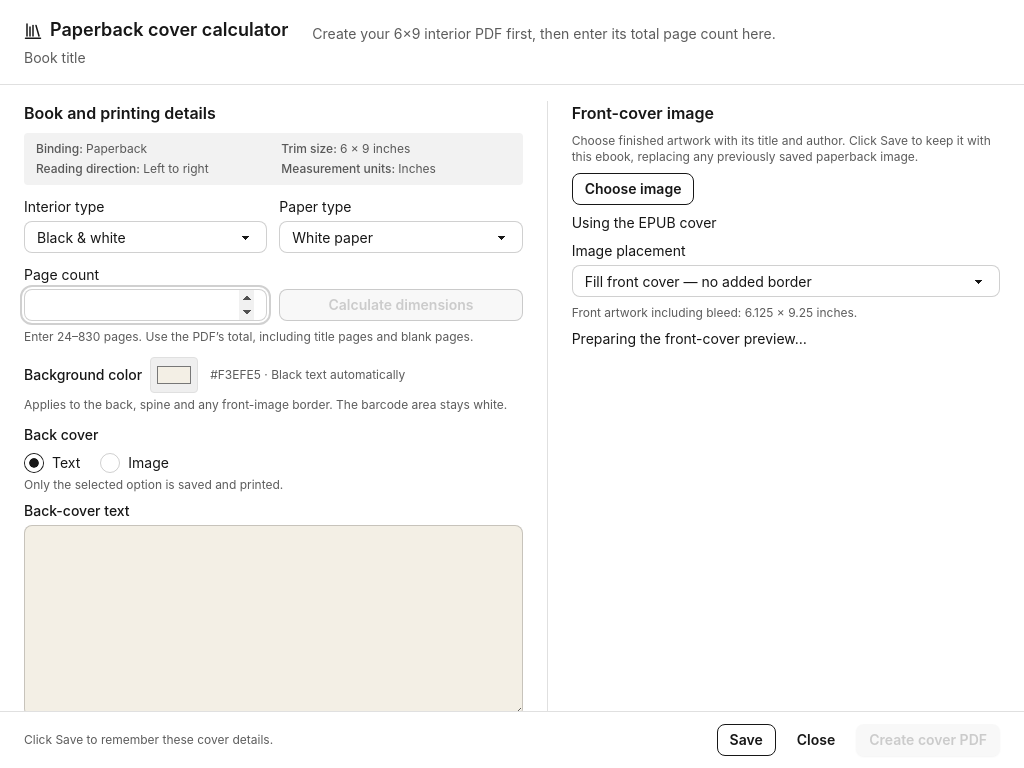
Test: separate paperback-cover calculator › accepts 830 for cover calculation and blocks 871 with the calculator range
This screenshot has width=1024, height=768.
Expected: the element named "Choose front-cover image" is shown, x1=572 y1=173 x2=694 y2=205
Select "Standard color" in the dropdown labelled "Interior type" at (146, 237), box x1=24 y1=221 x2=267 y2=253
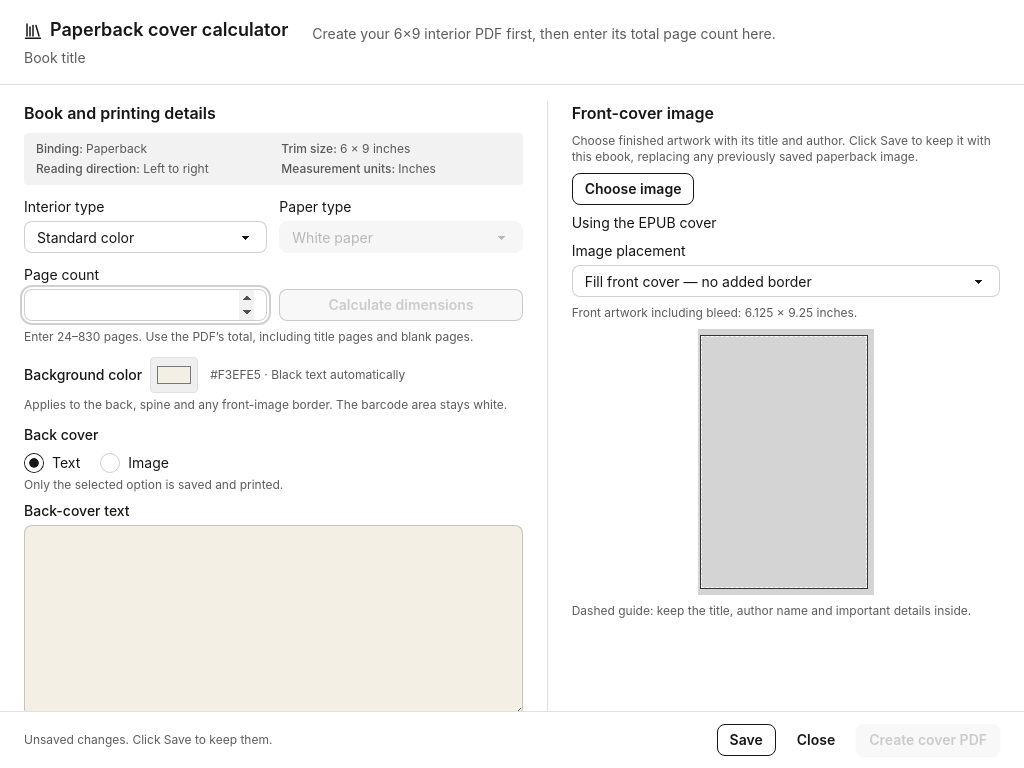
Type "830" into the number field labelled "Page count" at (146, 305), box x1=24 y1=289 x2=267 y2=321
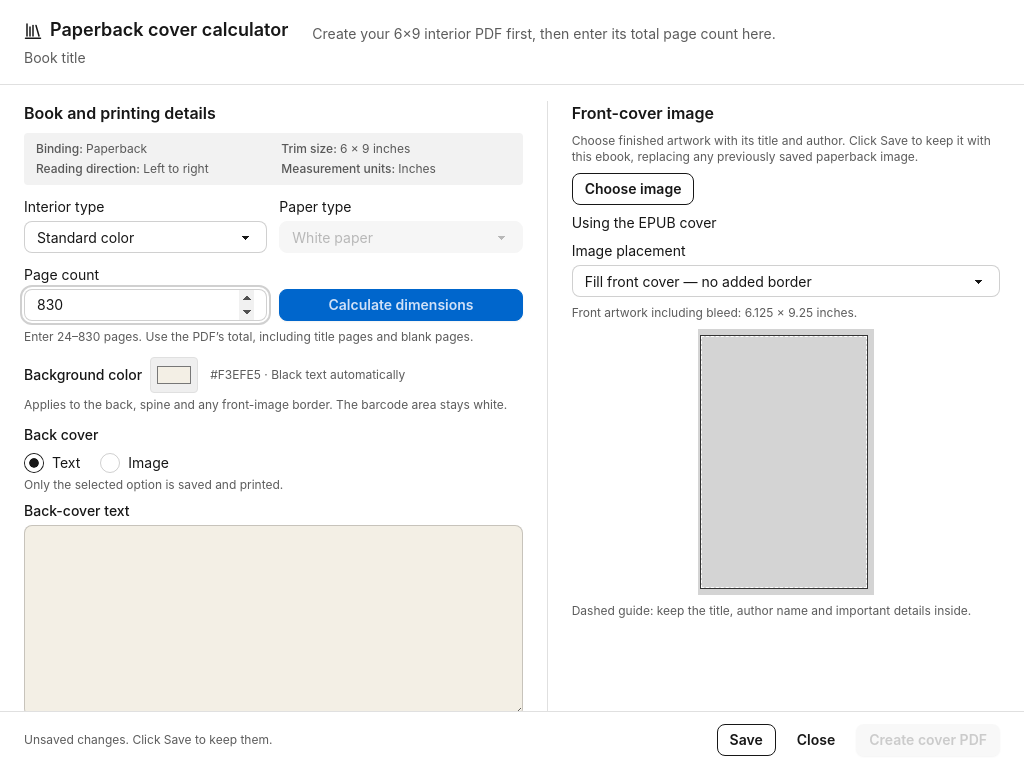
Click the button "Calculate dimensions" at (401, 305), box x1=279 y1=289 x2=523 y2=321
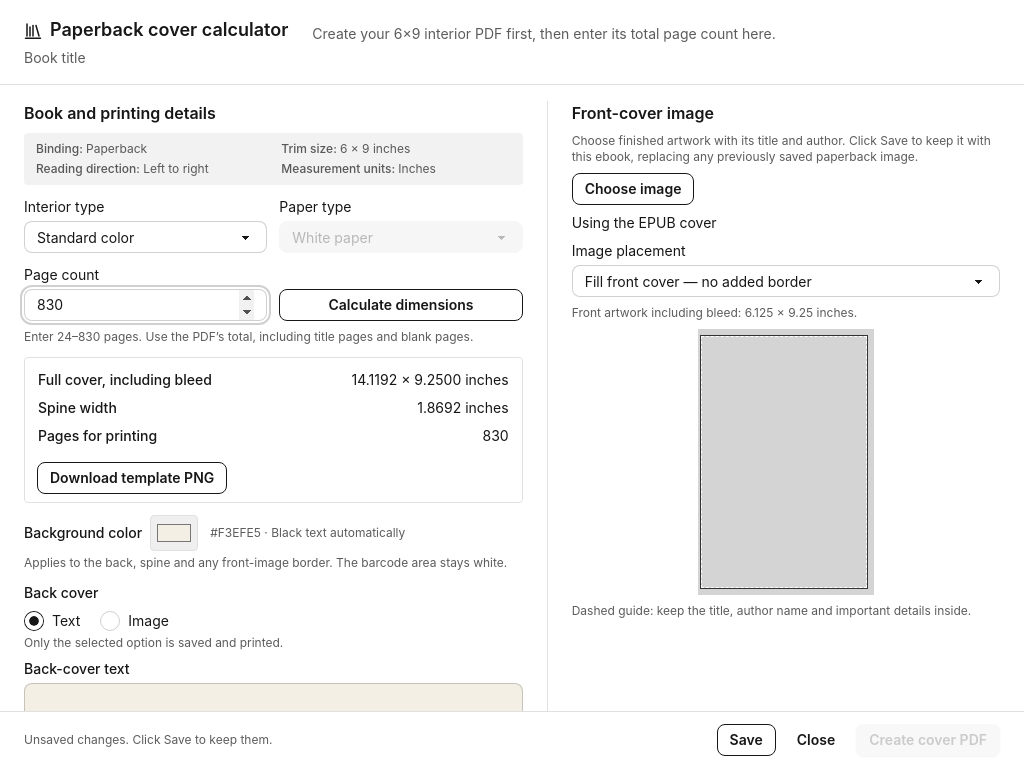
Expected: the message "Preparing the front-cover preview…" is not shown
Result: the table is shown at x1=37 y1=366 x2=510 y2=450
Replace the text in the number field labelled "Page count" with "871" at (146, 305), box x1=24 y1=289 x2=267 y2=321
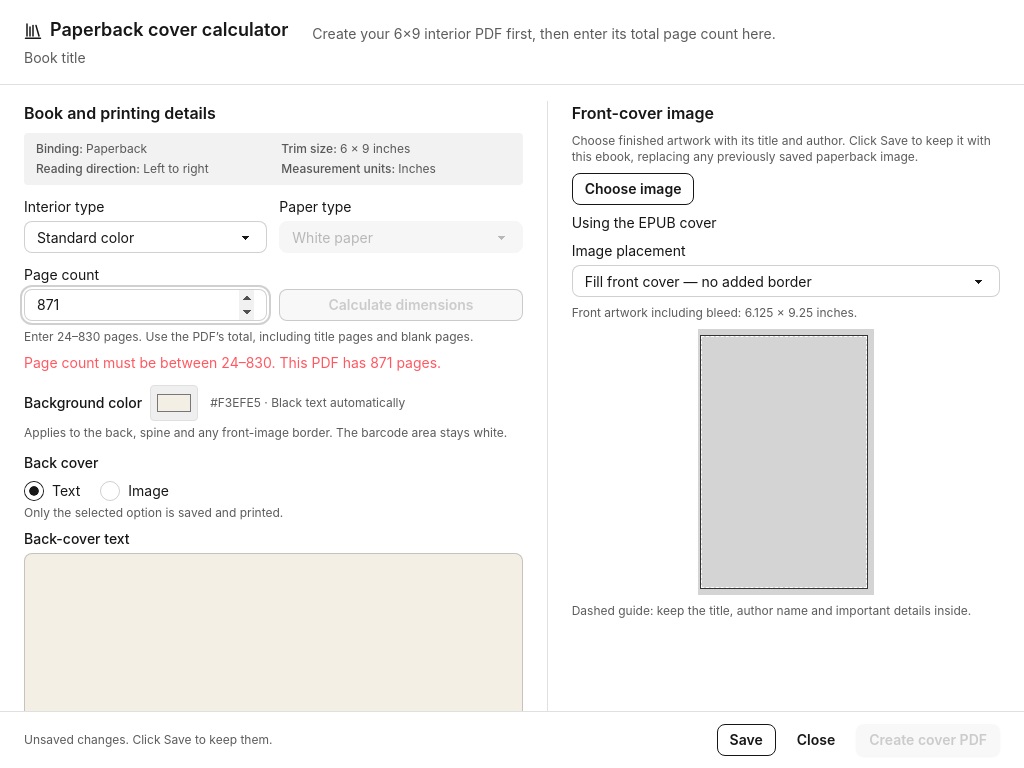
Result: the message "Page count must be between 24–830. This PDF has 871 pages." is shown at x1=24 y1=354 x2=441 y2=371
Result: the table is gone
Result: the button "Calculate dimensions" is disabled at x1=279 y1=289 x2=523 y2=321
